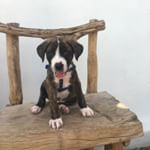puppy: (29, 35, 98, 133)
